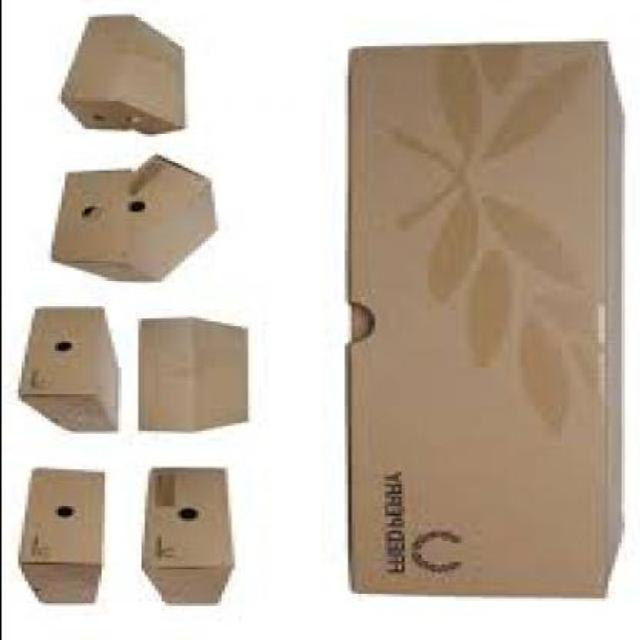CARDBOARD: (350, 44, 627, 598), (54, 158, 220, 282), (63, 17, 186, 137), (140, 322, 251, 436), (144, 472, 236, 608), (23, 310, 123, 432), (20, 472, 109, 606), (127, 158, 219, 282)
